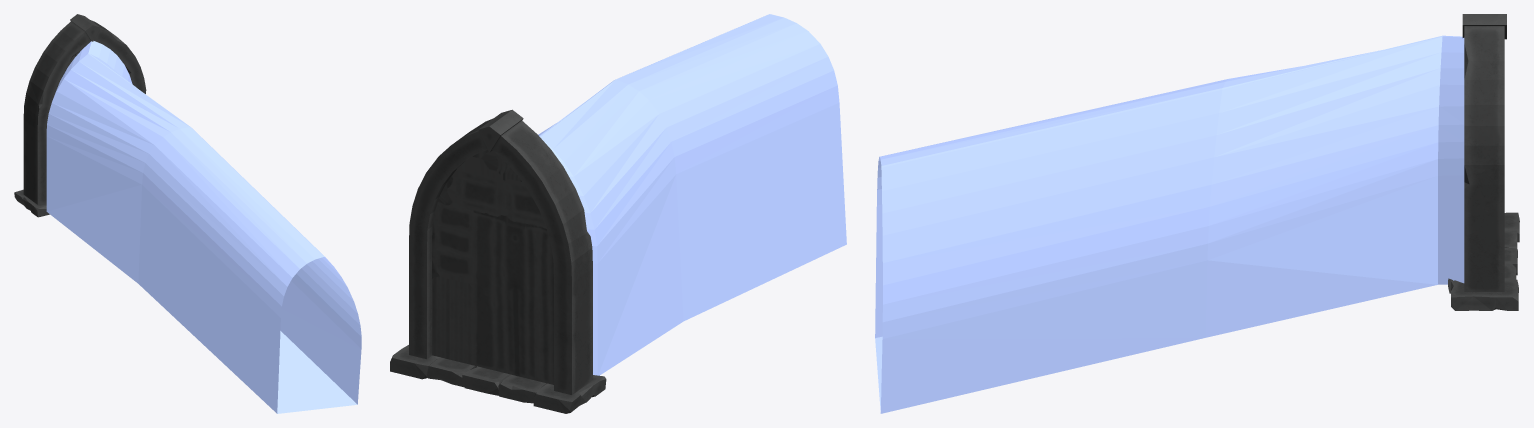
The model's file is Window.FBX.
The picture shows the model from 3 angles, left to right: view 1: azimuth 30°, elevation 25°; view 2: azimuth 150°, elevation 25°; view 3: azimuth 270°, elevation 25°; orthographic projection. The views are drawn at different scales.
Parts seen in each view (by area): view 1: Object002, Object001; view 2: Object002, Shape001, Object001; view 3: Object002, Object001.
Part boxes in pixels (x1,y1,x2,y2): Object002: (46,41,361,413); Object001: (14,14,146,217); Object002: (538,14,846,375); Shape001: (432,150,553,384); Object001: (390,109,606,413); Object002: (875,35,1464,413); Object001: (1448,14,1519,310).
Size of the model in its own units: 111 by 338 by 206.
